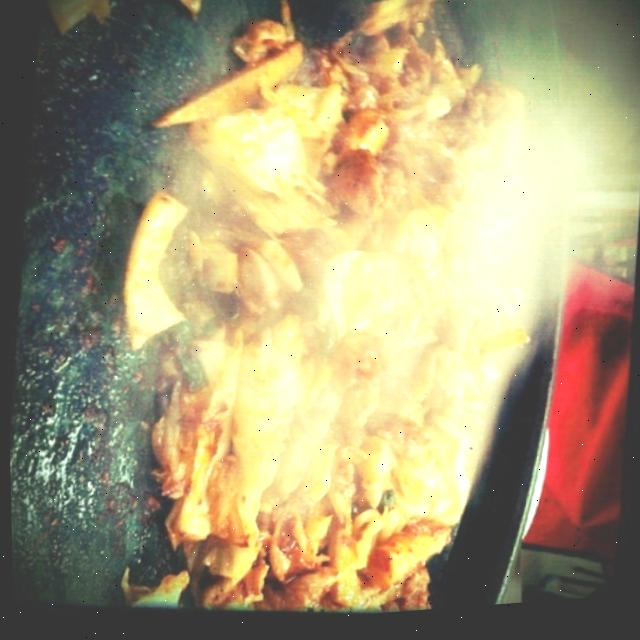鸡肉料理 含炸鸡: (61, 0, 604, 636)
